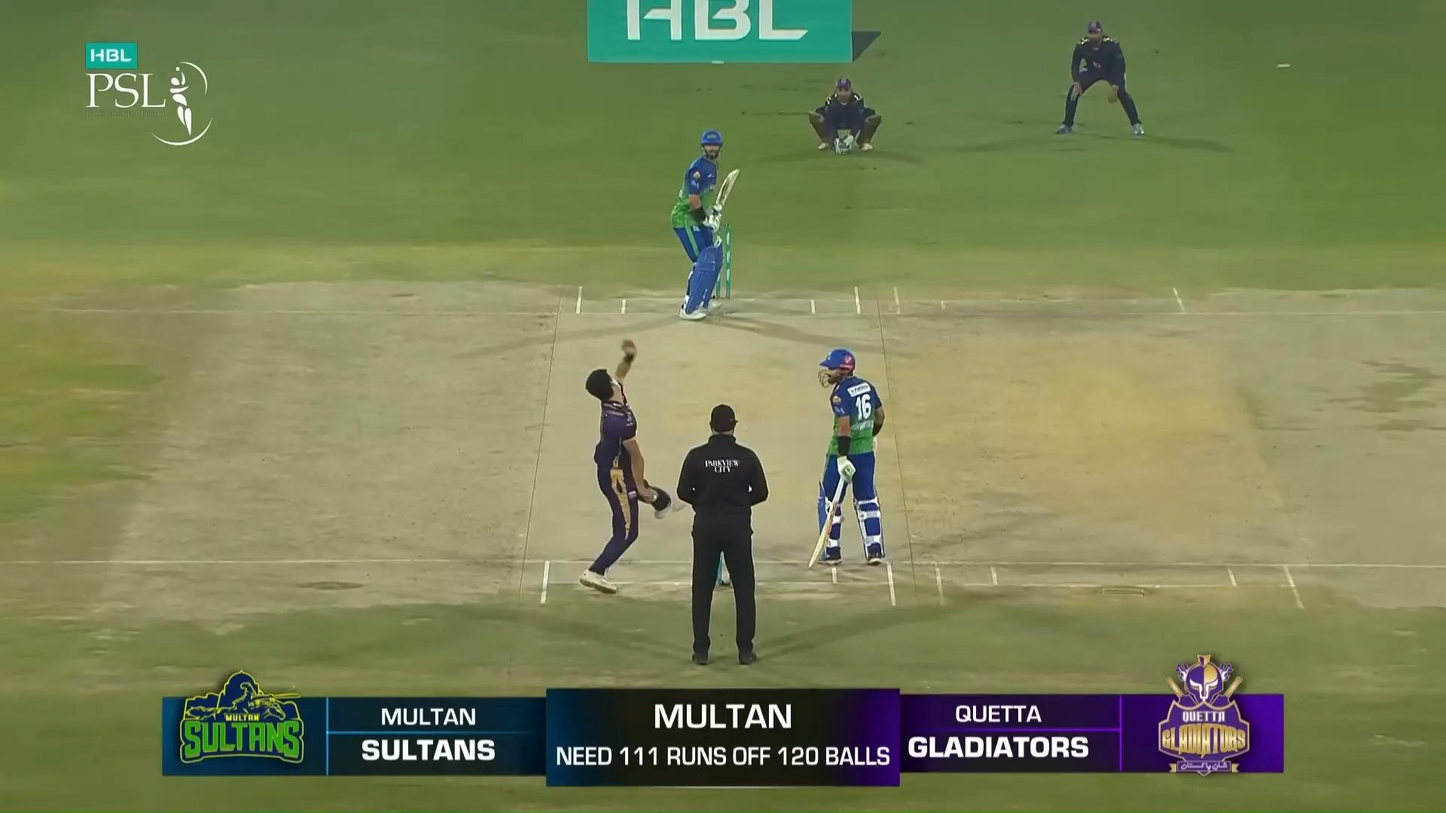batsman: (670, 130, 741, 321)
